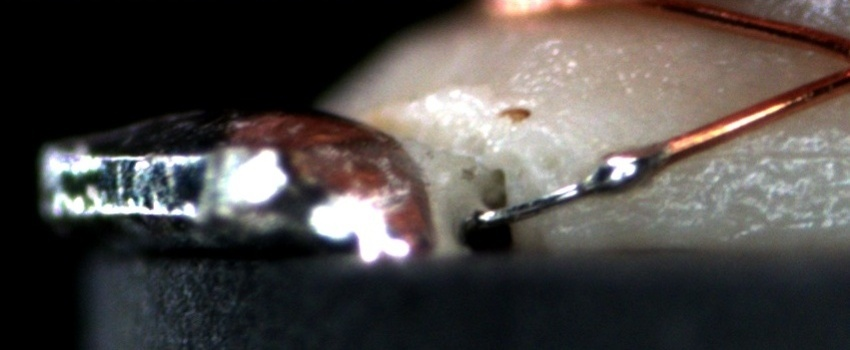CL: (831, 38, 850, 86)
DL: (722, 125, 849, 182)
TB: (579, 144, 659, 197)
TS: (478, 147, 672, 227)
TTCW: (466, 112, 732, 228)
